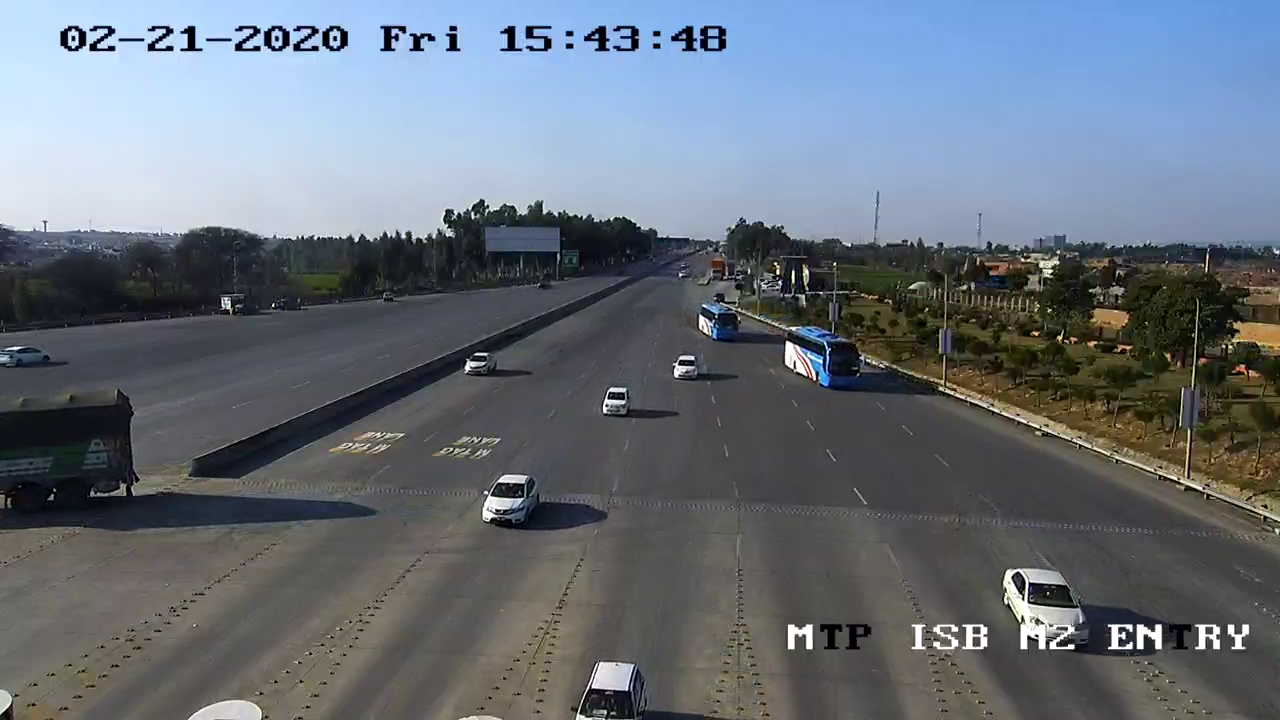f1: (475, 469, 545, 535), (594, 380, 640, 428), (459, 344, 499, 380), (665, 349, 705, 383)
f4: (769, 318, 875, 397), (691, 294, 745, 351)
